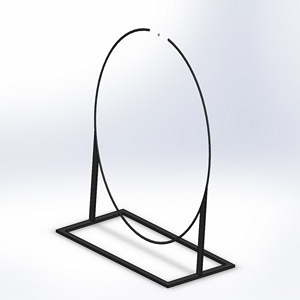circle: (53, 25, 237, 287)
